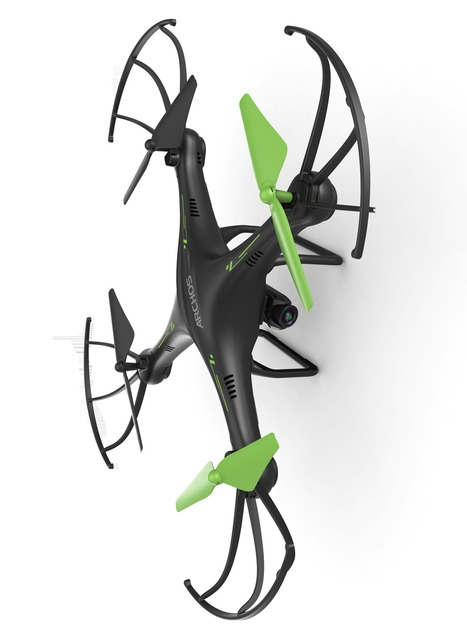drone: (82, 18, 375, 624)
